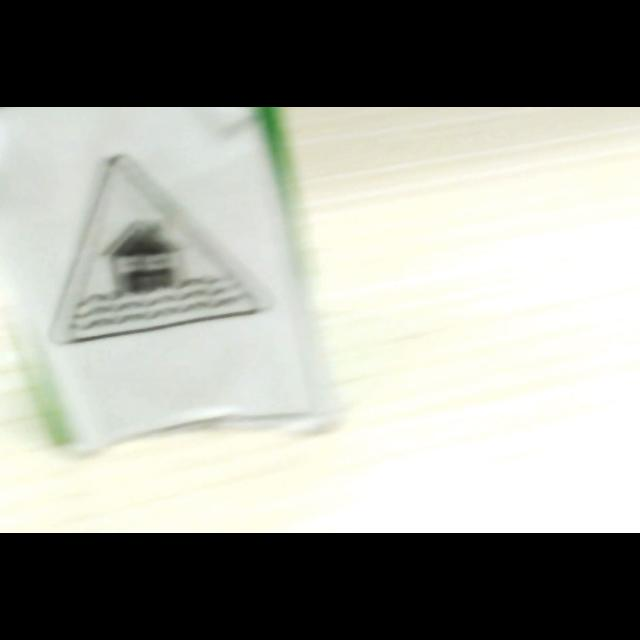Tsunami: (54, 155, 262, 344)
